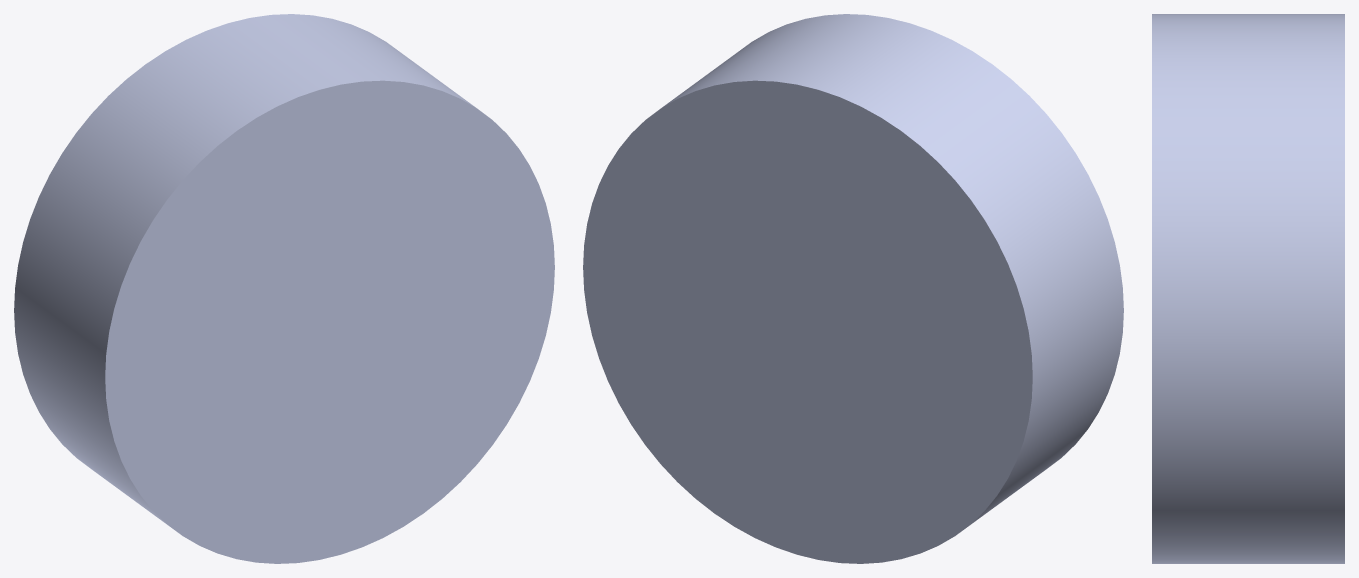
Rendered from circle wheel.obj.
3 views of the same model, side by side, from view 1: azimuth 30°, elevation 25°; view 2: azimuth 150°, elevation 25°; view 3: azimuth 270°, elevation 25° (orthographic). The views are drawn at different scales.
Visible parts, largest first — view 1: Solid1; view 2: Solid1; view 3: Solid1.
Part boxes in pixels (x1,y1,x2,y2): Solid1: (14, 14, 554, 563); Solid1: (583, 14, 1123, 563); Solid1: (1152, 14, 1344, 563).
Size of the model in its own units: 57 by 56.94 by 20.
